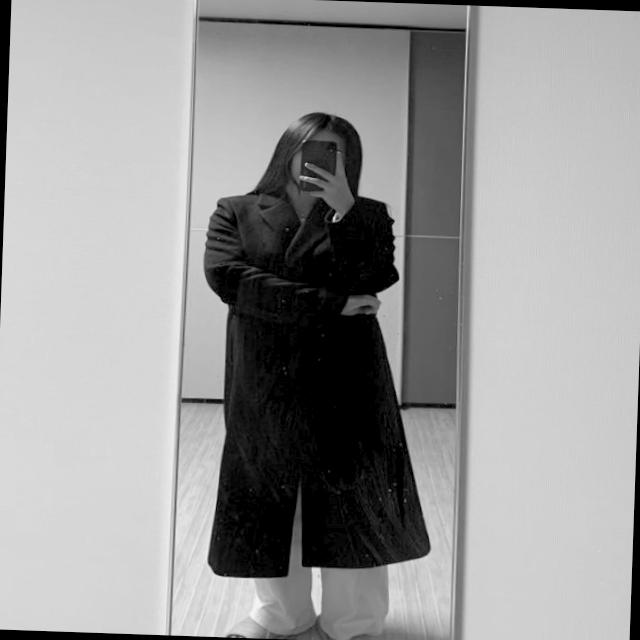coat: (193, 184, 444, 584)
cottonpants: (244, 476, 390, 640)
